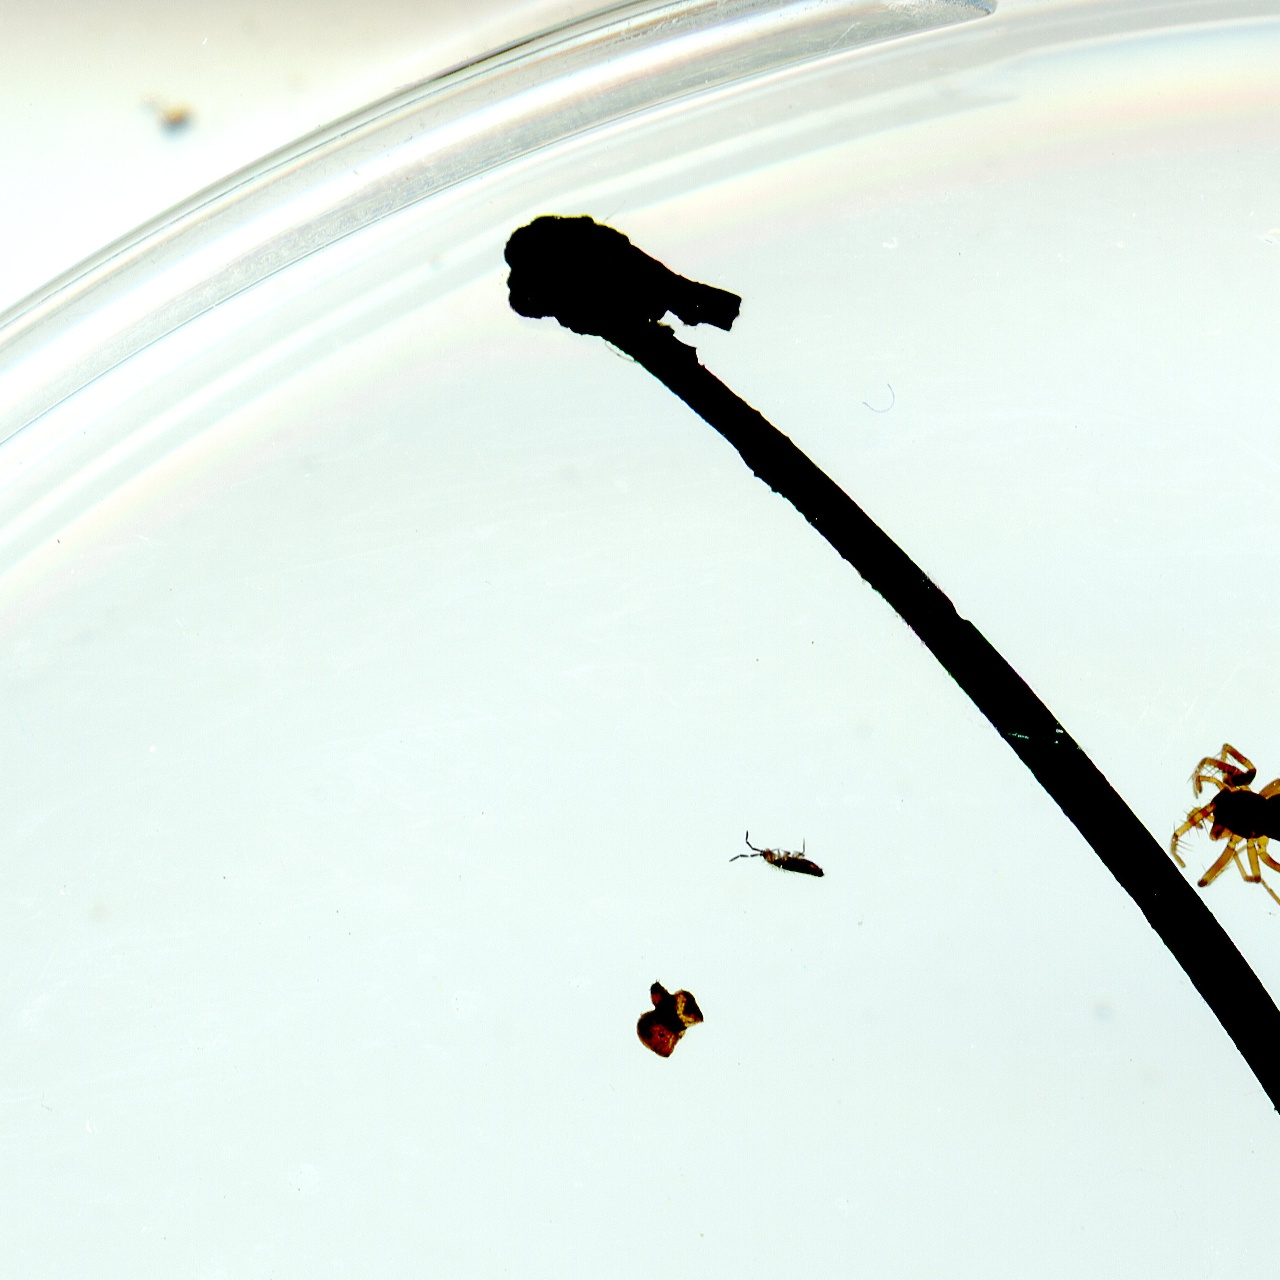arthropod: (1150, 723, 1280, 941), (713, 818, 850, 899)
